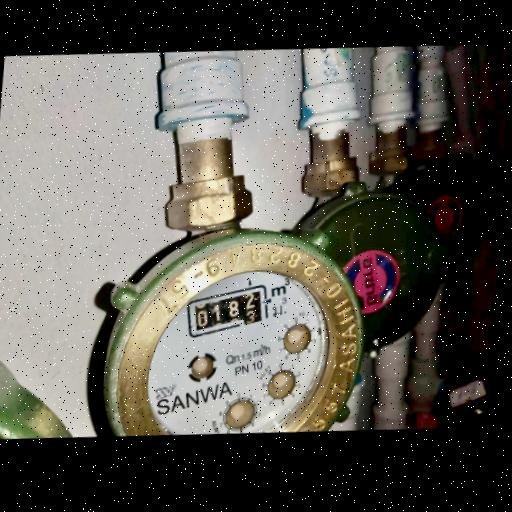0: (193, 301, 213, 330)
1: (206, 298, 228, 327)
2: (238, 290, 264, 325)
8: (221, 293, 246, 323)
border_water_meter_number: (181, 280, 273, 341)
